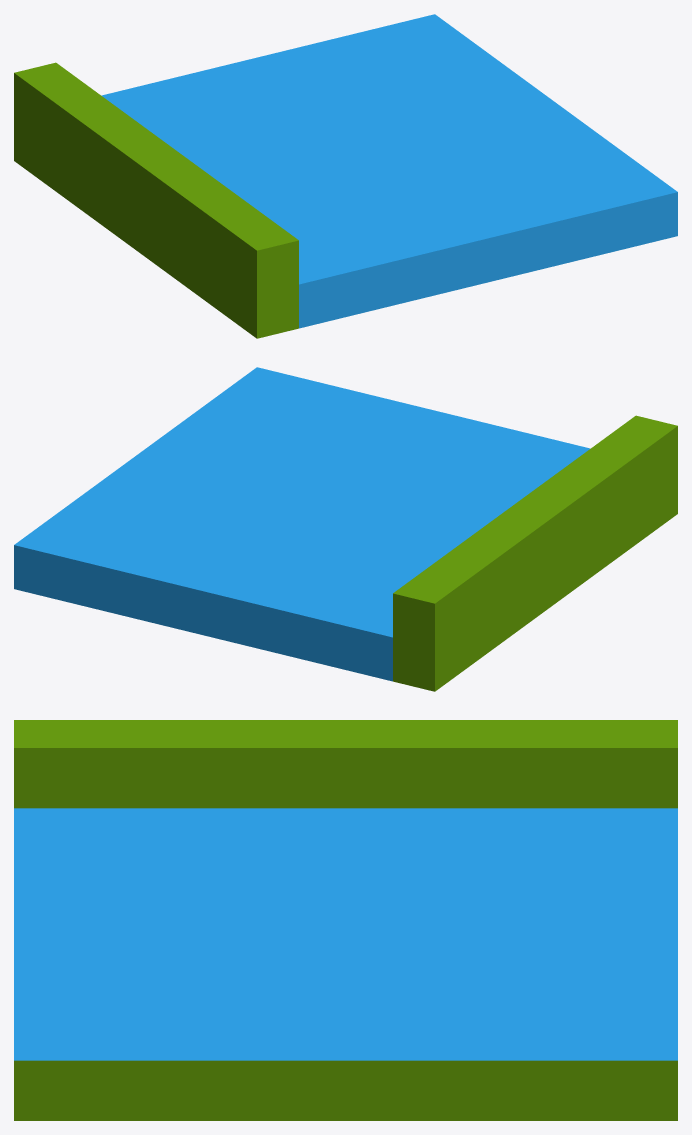
Rendered from TileWater_06.fbx.
3 renders of one model, top to bottom at view 1: azimuth 30°, elevation 25°; view 2: azimuth 150°, elevation 25°; view 3: azimuth 270°, elevation 25°, orthographic. The views are drawn at different scales.
Visible parts, largest first — view 1: TileWater_06; view 2: TileWater_06; view 3: TileWater_06.
Boxes of the visible parts, <box> form: TileWater_06: <box>14,14,677,338</box>; TileWater_06: <box>14,367,677,691</box>; TileWater_06: <box>14,720,677,1120</box>.
Size of the model in its own units: 500 by 100 by 500.
